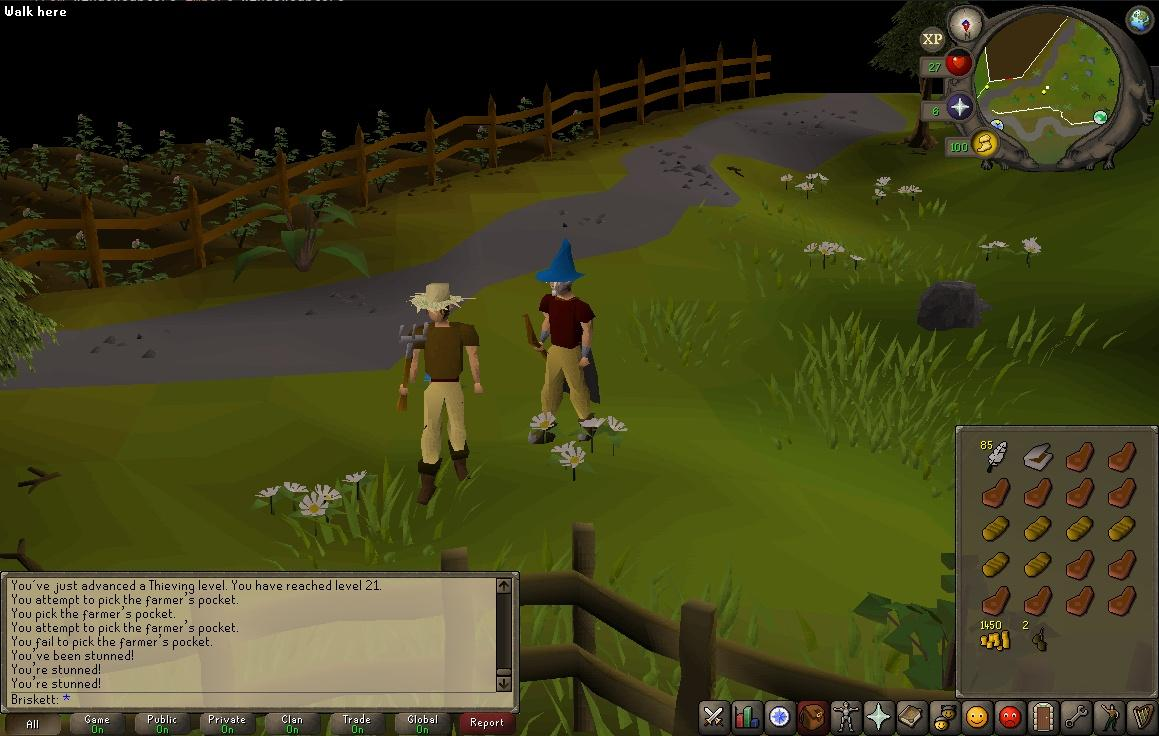Farmer: (397, 282, 484, 506)
